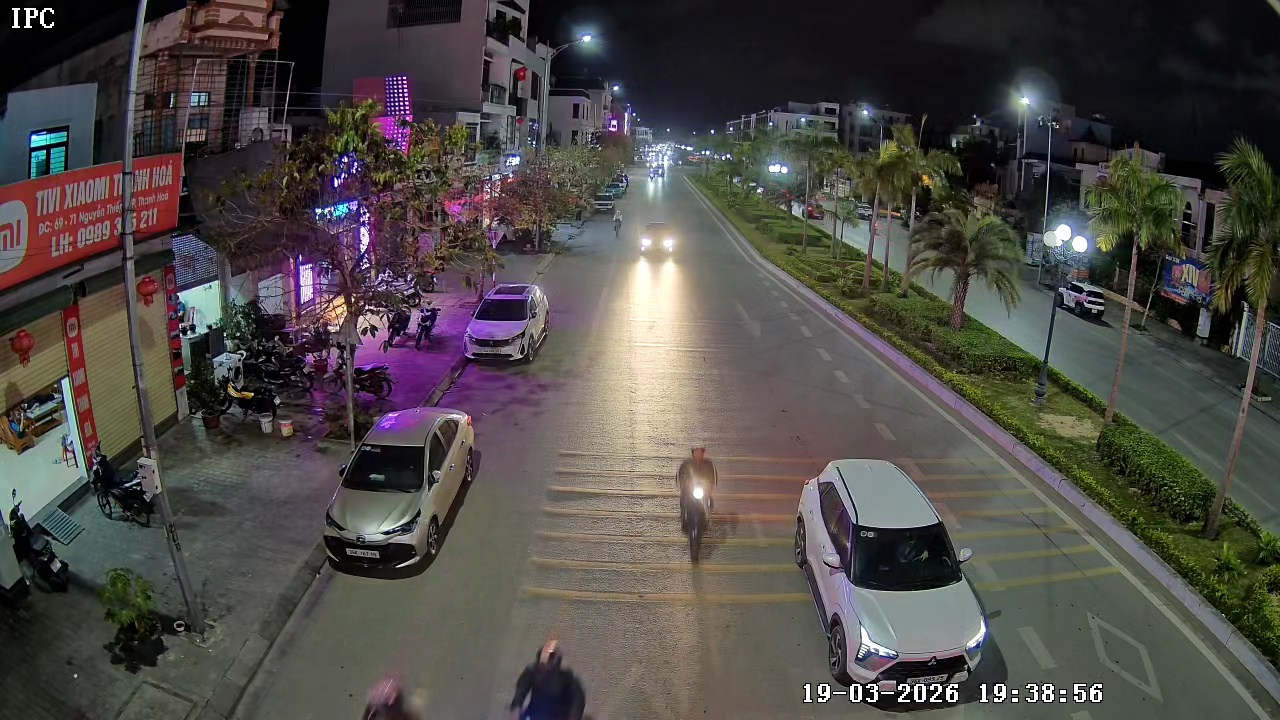car: (790, 456, 1010, 707), (322, 405, 481, 576), (464, 282, 551, 363), (632, 216, 682, 266)
exception: (506, 636, 591, 719)
motorbike: (675, 442, 721, 564), (611, 207, 625, 236)
